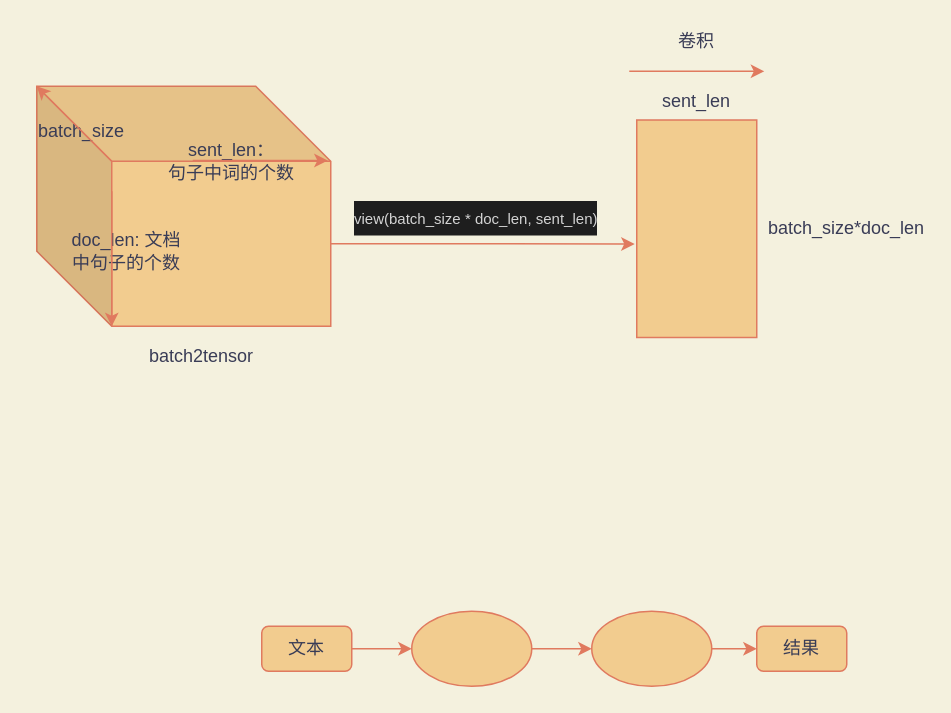
This 951x713 diagram has some shape labels left out. The shapes that lost their labels are listed below. From the top down, each one's centre as x and y in pixels, then its label:
point 471,648: 文本表示
point 651,648: 分类器
